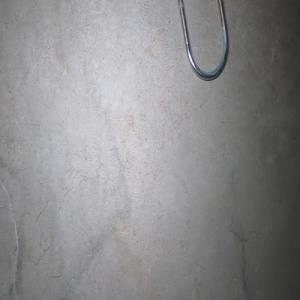ClampPart: (177, 0, 229, 81)
